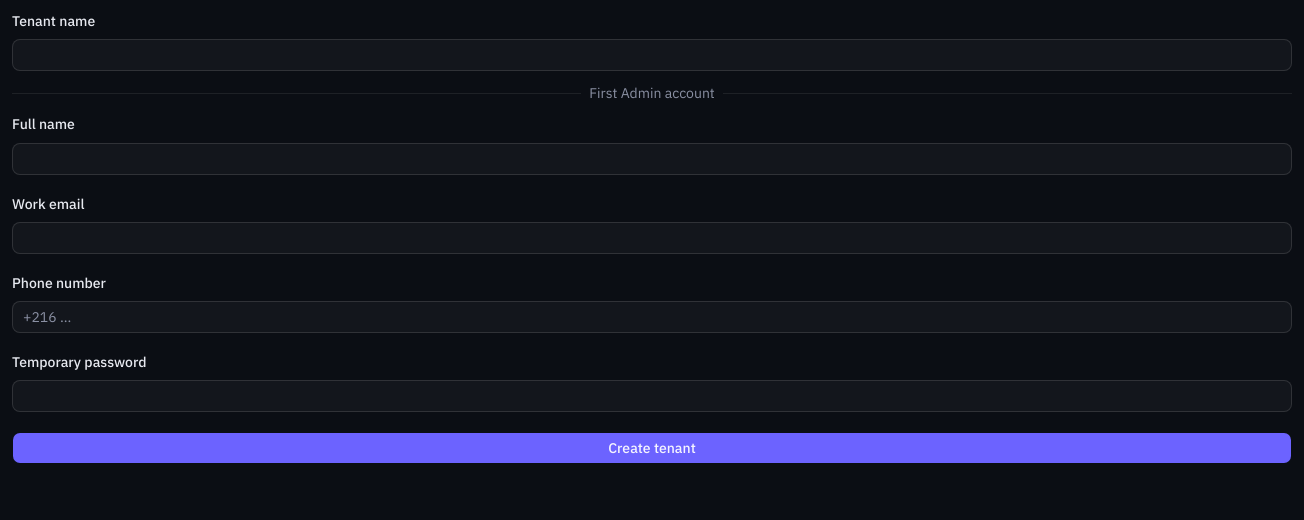
CreateTenantForm › shows the backend's error message on failure without refreshing
Type "Meridian Corp" into the field labelled "Tenant name".
click(652, 55); type("Meridian Corp")  # box left=12, top=39, right=1292, bottom=71
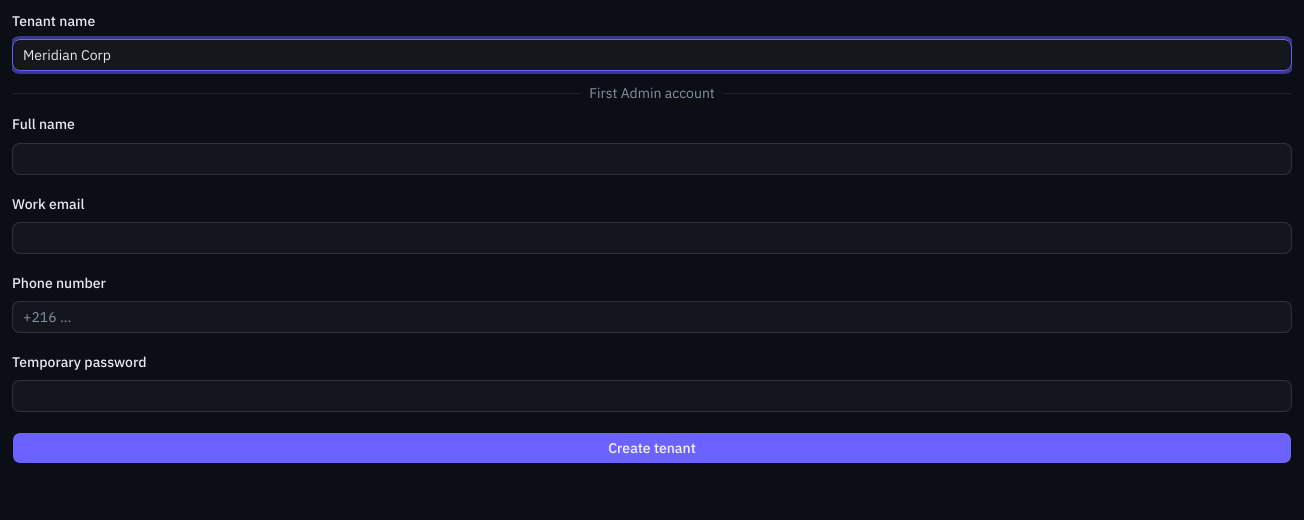
Type "Sara Khelifi" into the field labelled "Full name".
click(652, 158); type("Sara Khelifi")  # box left=12, top=142, right=1292, bottom=174
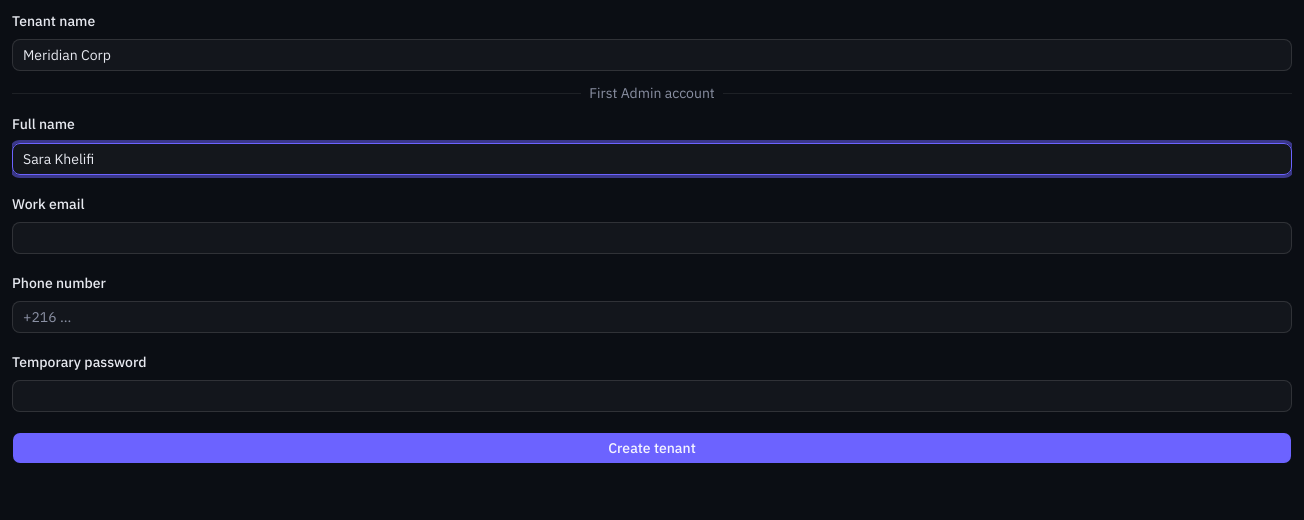
Type "sara@meridian.test" into the field labelled "Work email".
click(652, 238); type("sara@meridian.test")  # box left=12, top=222, right=1292, bottom=254
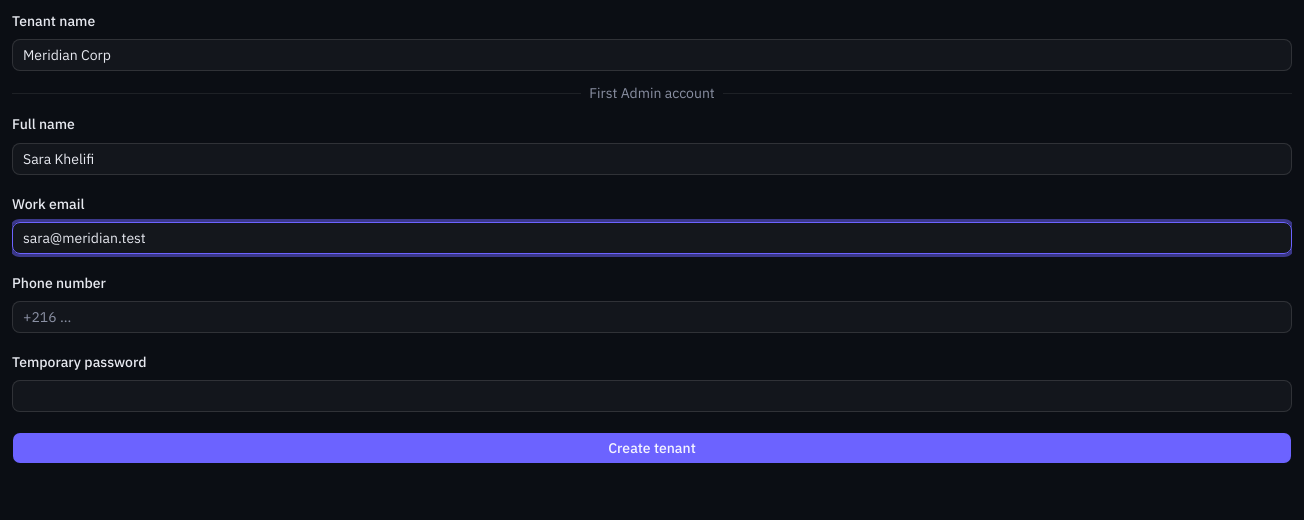
Type "+21620000009" into the field labelled "Phone number".
click(652, 317); type("+21620000009")  # box left=12, top=301, right=1292, bottom=333
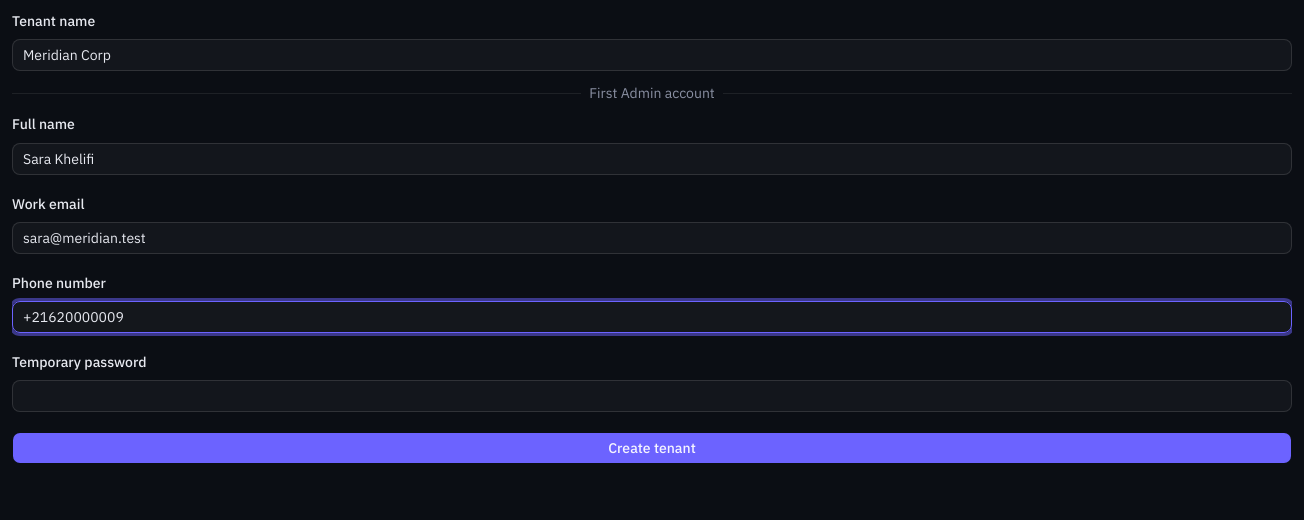
Type "Tempo123!" into the password field labelled "Temporary password".
click(652, 396); type("Tempo123!")  # box left=12, top=380, right=1292, bottom=412
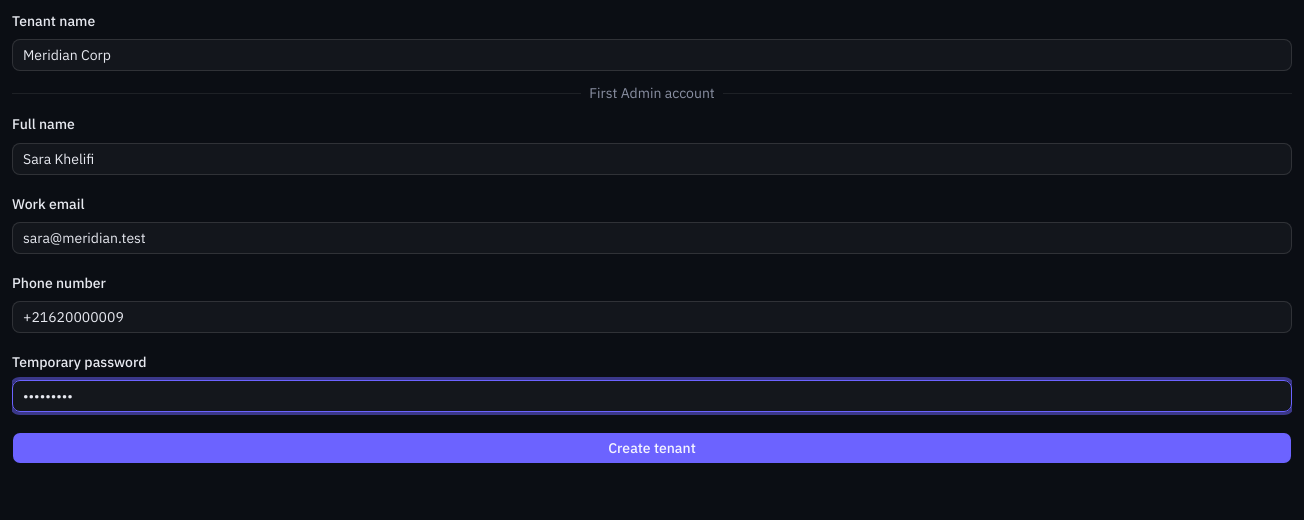
Click the button "Create tenant".
click(652, 448)  # box left=12, top=432, right=1292, bottom=464
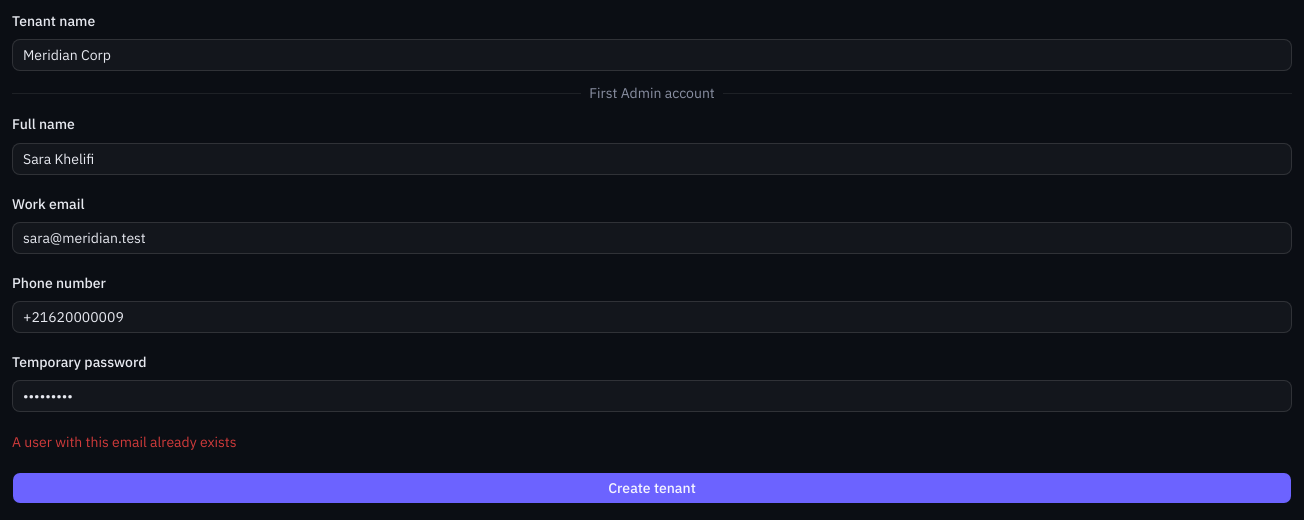
Expected: the text "A user with this email already exists" is shown, left=12, top=433, right=237, bottom=451
